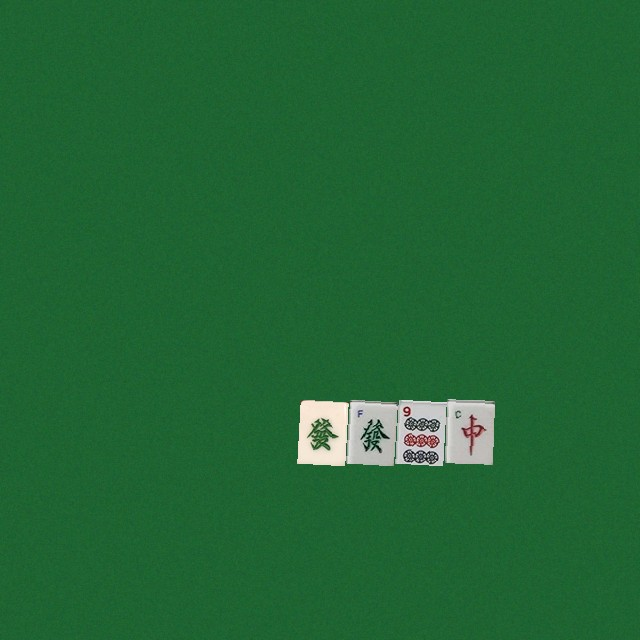tile: (297, 399, 345, 463), (346, 399, 394, 463), (395, 399, 443, 463), (444, 399, 492, 463)
